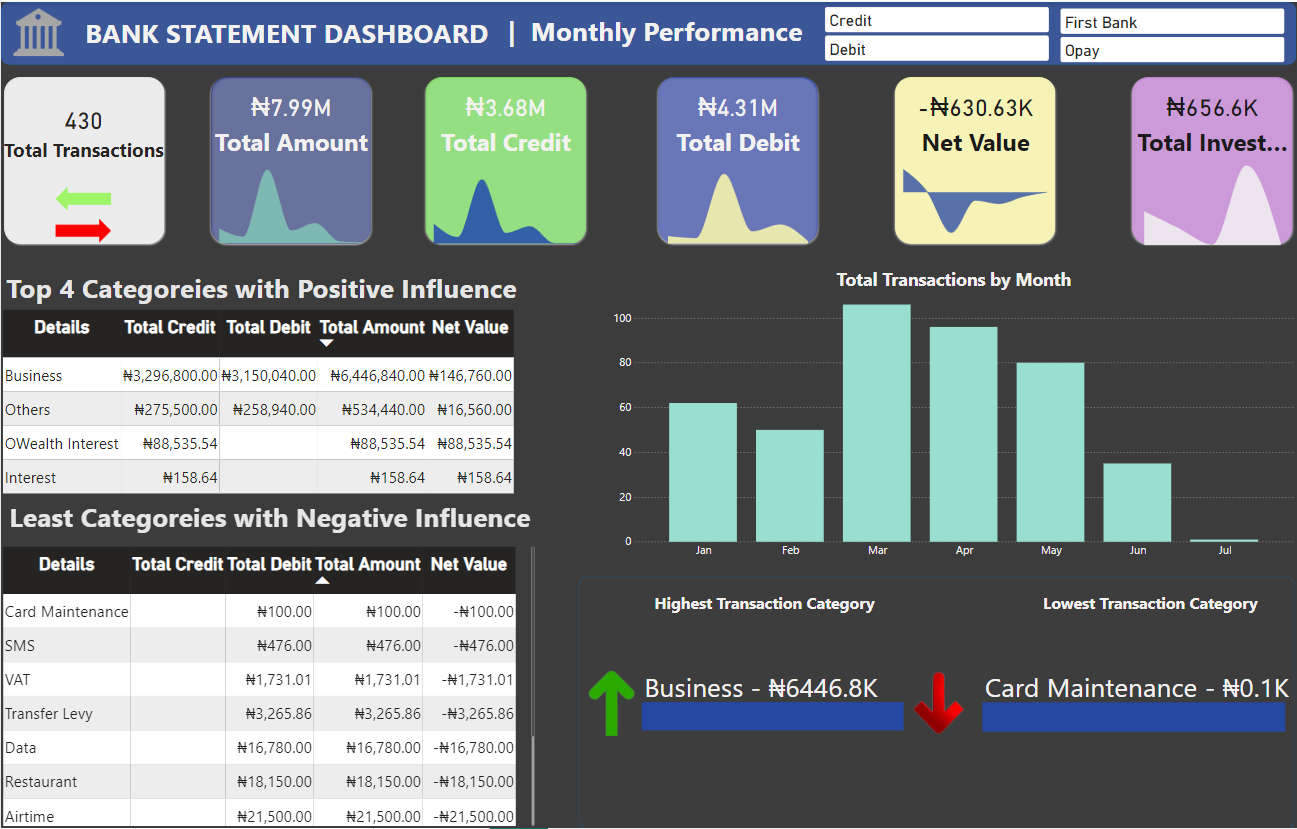

Layout of this report page (visuals, bound fields, positions):
{"tool":"powerbi","page":{"name":"Monthly Performance","canvas":[3920,2500],"ordinal":1},"visuals":[{"type":"shape","box":[1747.7,1737.7,2167.2,764],"z":0},{"type":"shape","box":[0,0,3919.9,189.8],"z":1000},{"type":"shape","box":[2695,217.5,503.8,522.5],"z":2000},{"type":"shape","box":[2696.5,215.7,503.3,523.3],"z":3000},{"type":"shape","box":[1980,218,502,524],"z":4000},{"type":"shape","box":[1980,218,502,522],"z":5000},{"type":"shape","box":[1276,220,504,522],"z":6000},{"type":"shape","box":[1276,218,504,524],"z":7000},{"type":"shape","box":[627.2,215.7,503.3,523.3],"z":8000},{"type":"shape","box":[627.2,215.7,503.3,523.3],"z":9000},{"type":"card","fields":{"Values":["Measures (2).Total Amount"]},"box":[626.7,218.3,503.3,280],"z":10000},{"type":"card","fields":{"Values":["Measures (2).Total Credit"]},"box":[1276,220,504,280],"z":11000},{"type":"card","fields":{"Values":["_Measures.Net Profit"]},"box":[2696.5,219.7,504.3,279.6],"z":12000},{"type":"card","fields":{"Values":["Measures (2).Total Debit"]},"box":[1980,216,502,280],"z":13000},{"type":"areaChart","fields":{"Category":["Calendar.Month"],"Y":["_Measures.Total Amount"]},"box":[626.7,476.7,503.3,258.3],"z":14000},{"type":"areaChart","fields":{"Category":["Calendar.Month"],"Y":["_Measures.Total Debit"]},"box":[1980,478,502,260],"z":15000},{"type":"areaChart","fields":{"Category":["Calendar.Month"],"Y":["_Measures.Total Credit"]},"box":[1276,478,504,260],"z":16000},{"type":"areaChart","fields":{"Category":["Calendar.Month"],"Y":["_Measures.Net Value"]},"box":[2696.5,479.4,503.3,259.7],"z":17000},{"type":"clusteredBarChart","title":"Total Amount by Category","fields":{"Category":["Statement.Details"],"Y":["_Measures.Placeholder","_Measures.Total Amount"]},"box":[1932.5,1777.7,828.9,684.1],"z":18000},{"type":"textbox","box":[249.7,30,1278.3,159.8],"z":19000},{"type":"shape","box":[0,219.7,503.3,523.3],"z":20000},{"type":"shape","box":[0,219.7,503.3,523.3],"z":21000},{"type":"shape","box":[3415.5,219.7,504.3,524.3],"z":22000},{"type":"shape","box":[3415.5,219.7,504.3,524.3],"z":23000},{"type":"card","fields":{"Values":["_Measures.Total Investment"]},"box":[3415.5,219.7,504.3,279.6],"z":24000},{"type":"areaChart","fields":{"Category":["Calendar.Month"],"Y":["_Measures.Total Investment"]},"box":[3415.5,479.4,504.3,259.7],"z":25000},{"type":"image","box":[30,15,164.8,154.8],"z":26000},{"type":"card","fields":{"Values":["_Measures.Total Transactions"]},"box":[0,219.7,499.3,334.6],"z":27000},{"type":"image","box":[54.9,554.3,389.5,179.8],"z":28000},{"type":"advancedSlicerVisual","fields":{"Values":["Statement.Bank"]},"box":[3200.8,15,689.1,174.8],"z":29000},{"type":"advancedSlicerVisual","fields":{"Values":["Statement.TransactionType"]},"box":[2486.7,10,689.1,174.8],"z":30000},{"type":"actionButton","title":"|  Monthly Performance","box":[1528,30,898.8,139.8],"z":31000},{"type":"tableEx","fields":{"Values":["Statement.Details","_Measures.Total Credit","_Measures.Total Debit","_Measures.Total Amount","_Measures.Net Value"]},"box":[0,863.9,1697.8,1637.9],"z":32000},{"type":"clusteredBarChart","title":"Total Amount by Category","fields":{"Category":["Statement.Details"],"Y":["_Measures.Placeholder","_Measures.Total Amount"]},"box":[2966.1,1777.7,953.7,684.1],"z":33000},{"type":"clusteredColumnChart","fields":{"Category":["Calendar.Month"],"Y":["_Measures.Total Transactions"]},"box":[1847.6,803.9,2072.3,888.8],"z":34000},{"type":"image","box":[1697.8,2012.4,299.6,214.7],"z":34001},{"type":"image","box":[2711.4,2012.4,254.7,214.7],"z":34002},{"type":"textbox","box":[1962.4,1777.7,699.1,104.9],"z":34003},{"type":"textbox","box":[3041,1777.7,873.9,104.9],"z":34004}]}

Visuals, with their boxes in screenshot pixels (x1, y1, x2, y2), scaled from the page's 3920x2500 canvas onto the 1297x829 screenshot:
shape: left=578, top=576, right=1295, bottom=828
shape: left=0, top=0, right=1296, bottom=63
shape: left=892, top=72, right=1058, bottom=245
shape: left=892, top=72, right=1059, bottom=245
shape: left=655, top=72, right=821, bottom=246
shape: left=655, top=72, right=821, bottom=245
shape: left=422, top=73, right=589, bottom=246
shape: left=422, top=72, right=589, bottom=246
shape: left=208, top=72, right=374, bottom=245
shape: left=208, top=72, right=374, bottom=245
card - Measures (2).Total Amount: left=207, top=72, right=374, bottom=165
card - Measures (2).Total Credit: left=422, top=73, right=589, bottom=166
card - _Measures.Net Profit: left=892, top=73, right=1059, bottom=166
card - Measures (2).Total Debit: left=655, top=72, right=821, bottom=164
areaChart - Calendar.Month x _Measures.Total Amount: left=207, top=158, right=374, bottom=244
areaChart - Calendar.Month x _Measures.Total Debit: left=655, top=159, right=821, bottom=245
areaChart - Calendar.Month x _Measures.Total Credit: left=422, top=159, right=589, bottom=245
areaChart - Calendar.Month x _Measures.Net Value: left=892, top=159, right=1059, bottom=245
"Total Amount by Category" clusteredBarChart: left=639, top=589, right=914, bottom=816
textbox: left=83, top=10, right=506, bottom=63
shape: left=0, top=73, right=167, bottom=246
shape: left=0, top=73, right=167, bottom=246
shape: left=1130, top=73, right=1296, bottom=247
shape: left=1130, top=73, right=1296, bottom=247
card - _Measures.Total Investment: left=1130, top=73, right=1296, bottom=166
areaChart - Calendar.Month x _Measures.Total Investment: left=1130, top=159, right=1296, bottom=245
image: left=10, top=5, right=64, bottom=56
card - _Measures.Total Transactions: left=0, top=73, right=165, bottom=184
image: left=18, top=184, right=147, bottom=243
advancedSlicerVisual - Statement.Bank: left=1059, top=5, right=1287, bottom=63
advancedSlicerVisual - Statement.TransactionType: left=823, top=3, right=1051, bottom=61
"|  Monthly Performance" actionButton: left=506, top=10, right=803, bottom=56
tableEx - Statement.Details x _Measures.Total Credit: left=0, top=286, right=562, bottom=828
"Total Amount by Category" clusteredBarChart: left=981, top=589, right=1296, bottom=816
clusteredColumnChart - Calendar.Month x _Measures.Total Transactions: left=611, top=267, right=1296, bottom=561
image: left=562, top=667, right=661, bottom=739
image: left=897, top=667, right=981, bottom=739
textbox: left=649, top=589, right=881, bottom=624
textbox: left=1006, top=589, right=1295, bottom=624
